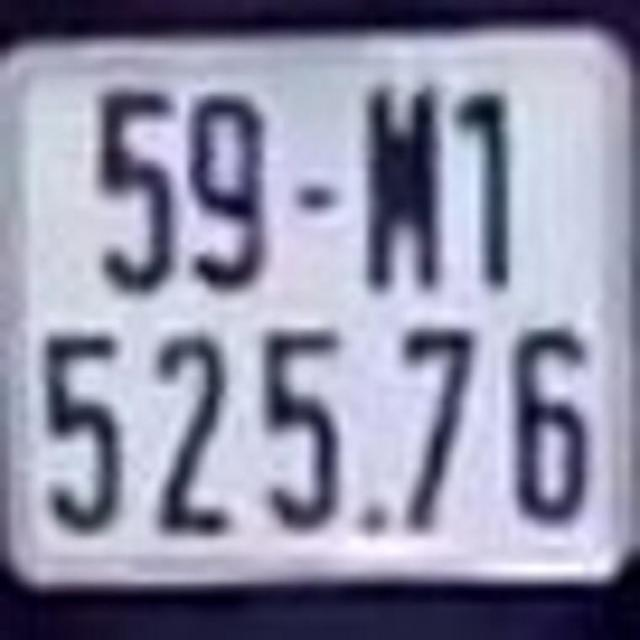1: (457, 75, 522, 292)
2: (156, 319, 232, 540)
5: (41, 314, 128, 538), (260, 319, 346, 530), (98, 81, 177, 296)
6: (514, 312, 586, 525)
7: (400, 312, 475, 529)
9: (187, 70, 272, 300)
H: (364, 75, 447, 295)
